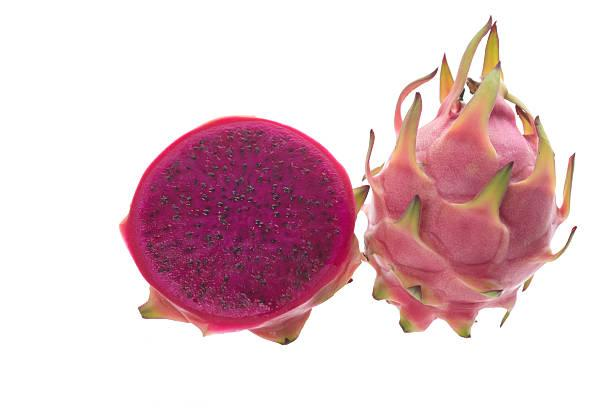dragon fruit: (365, 9, 578, 360), (110, 108, 368, 366)
